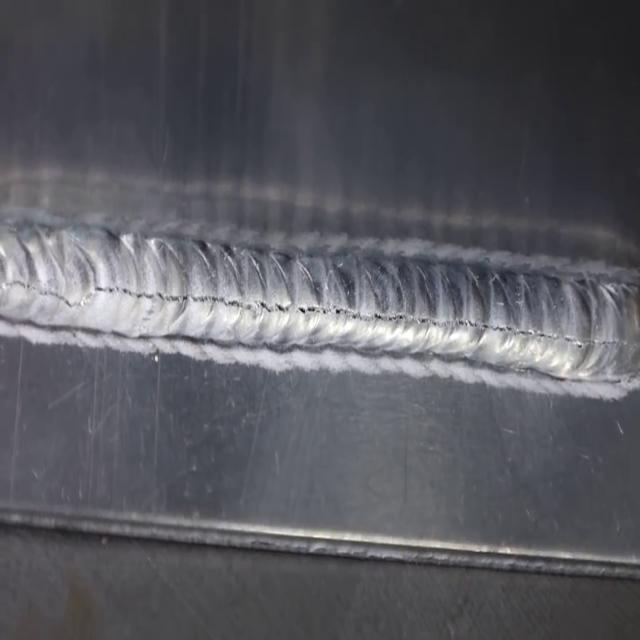Crack: (0, 213, 640, 387)
